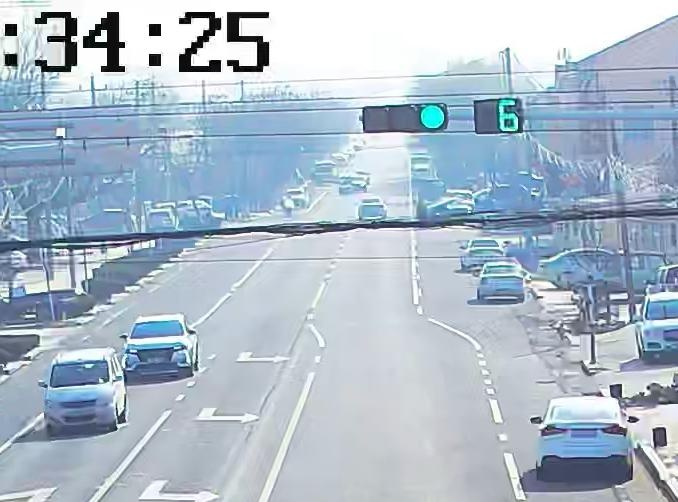green: (419, 106, 447, 129)
greentime: (491, 97, 524, 134)
